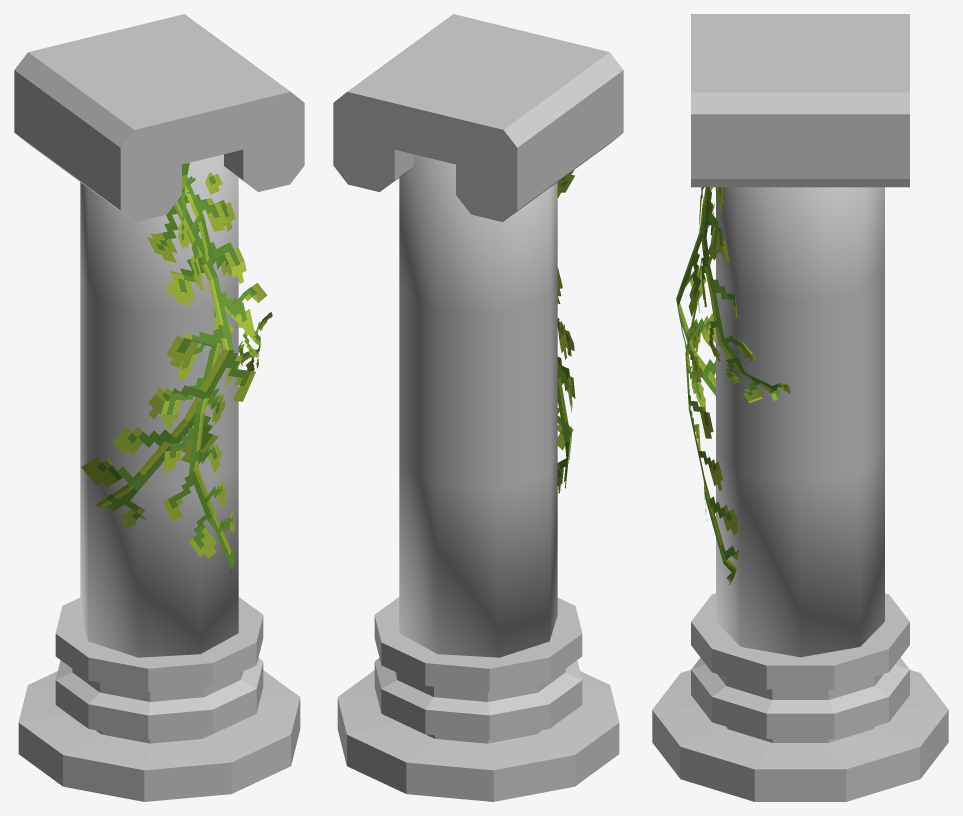
The model's file is Pillar1.fbx.
The picture shows the model from 3 angles, left to right: view 1: azimuth 30°, elevation 25°; view 2: azimuth 150°, elevation 25°; view 3: azimuth 270°, elevation 25°; orthographic projection. The views are drawn at different scales.
Parts seen in each view (by area): view 1: Cylindre.001, Plan.002, Plan.001, Plan; view 2: Cylindre.001, Plan.002, Plan.001; view 3: Cylindre.001, Plan, Plan.001, Plan.002.
Boxes of the visible parts, x1,y1,x2,y2 form: Cylindre.001: (14,14,304,801); Plan.002: (81,163,255,529); Plan.001: (160,298,243,586); Plan: (177,172,272,371); Cylindre.001: (333,14,623,801); Plan.002: (557,170,574,493); Plan.001: (557,296,575,450); Cylindre.001: (652,14,948,801); Plan: (699,187,790,402); Plan.001: (685,257,738,584); Plan.002: (676,187,719,408).
Bounding box in the file's own units: 259 × 695 × 271.
